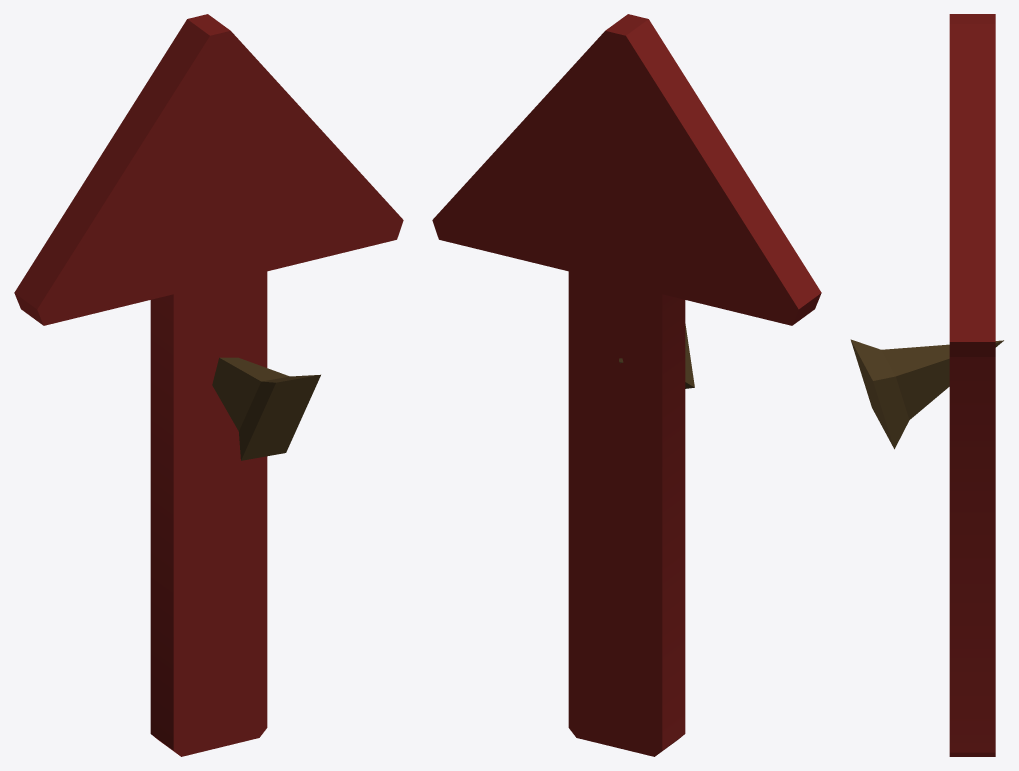
File: Arrow_With_Nail.fbx
3 views of the same model, side by side, from view 1: azimuth 30°, elevation 25°; view 2: azimuth 150°, elevation 25°; view 3: azimuth 270°, elevation 25° (orthographic).
Visible parts, largest first — view 1: Arrow_With_Nail; view 2: Arrow_With_Nail; view 3: Arrow_With_Nail.
Boxes of the visible parts, x1,y1,x2,y2 form: Arrow_With_Nail: [14, 14, 403, 756]; Arrow_With_Nail: [432, 14, 821, 756]; Arrow_With_Nail: [850, 14, 1003, 756].
Bounding box in the file's own units: 0.5691 × 1.06 × 0.2058.
